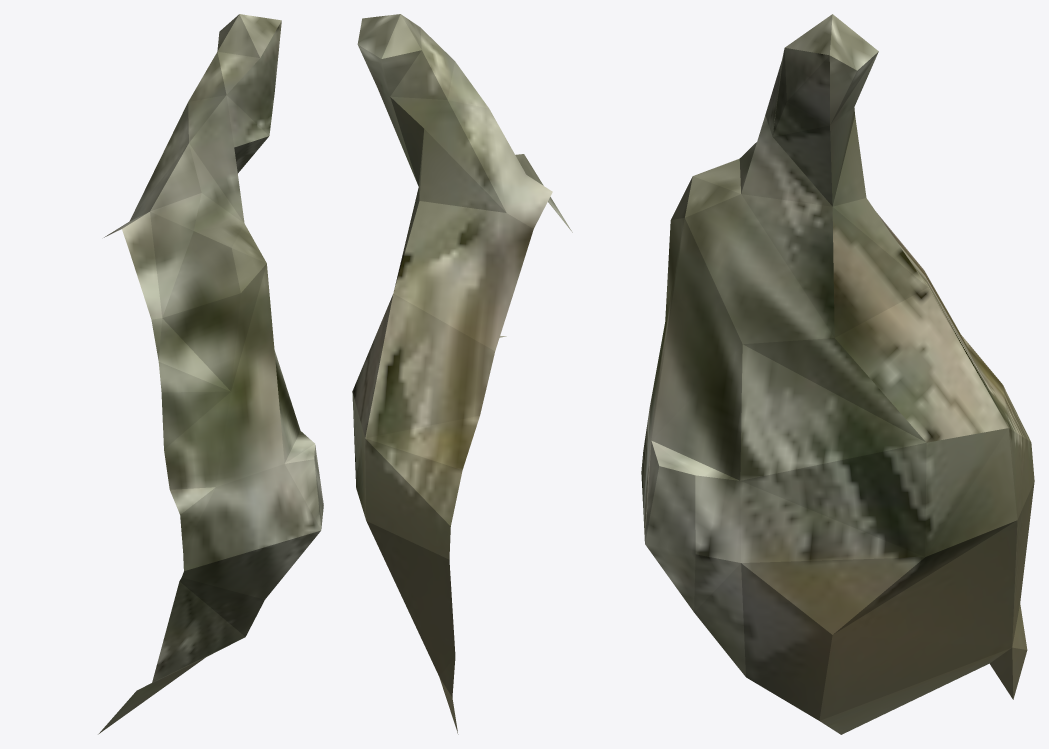
3 renders of one model, left to right at view 1: azimuth 30°, elevation 25°; view 2: azimuth 150°, elevation 25°; view 3: azimuth 270°, elevation 25°, orthographic. The views are drawn at different scales.
Size of the model in its own units: 0.4054 by 1.49 by 0.6651.
Materials: 1 (1 with a texture image).
